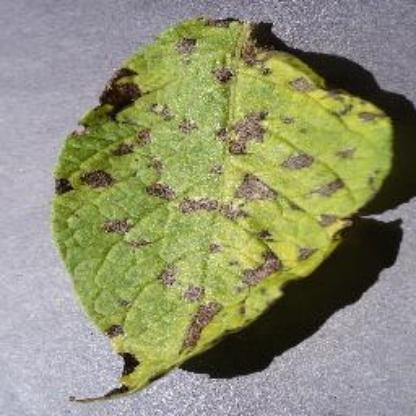Early-Blight: (37, 11, 415, 415)
